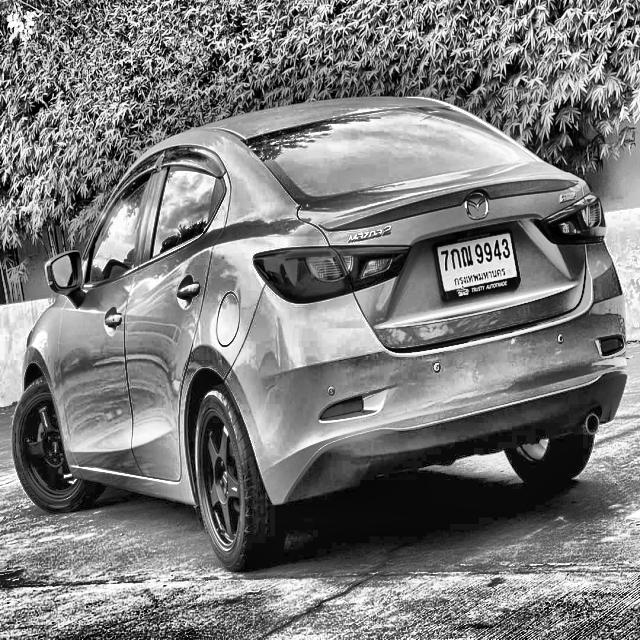license-plate: (432, 224, 523, 304)
